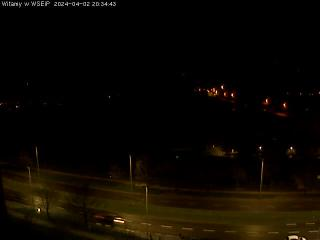car: (92, 211, 125, 228), (283, 234, 306, 240)
